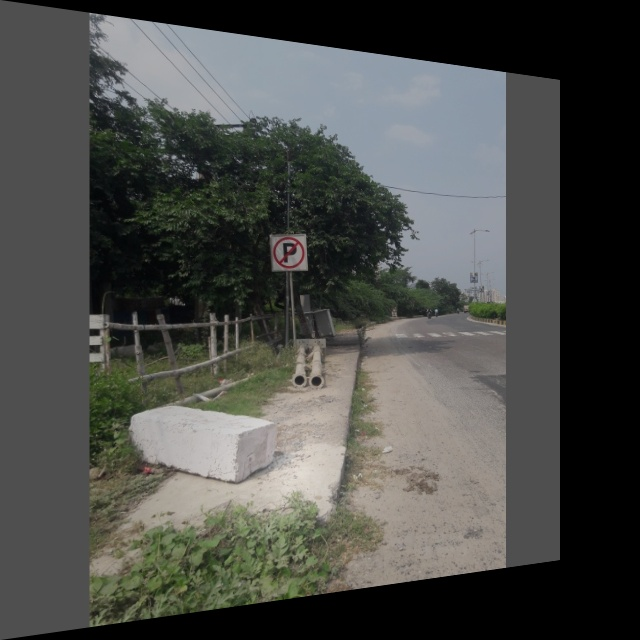No_Parking: (268, 231, 309, 275)
